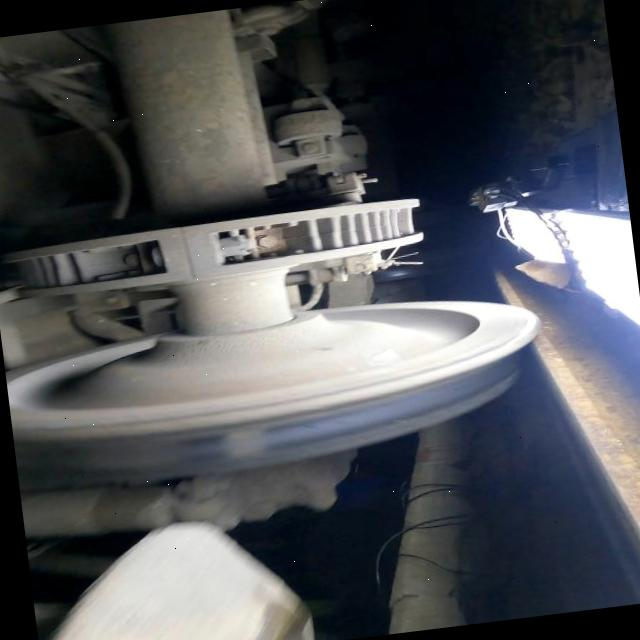Discoloration: (262, 409, 364, 456), (179, 435, 220, 466)
Shelling: (19, 441, 183, 474), (220, 426, 260, 460)
Wheel: (6, 300, 538, 489)
